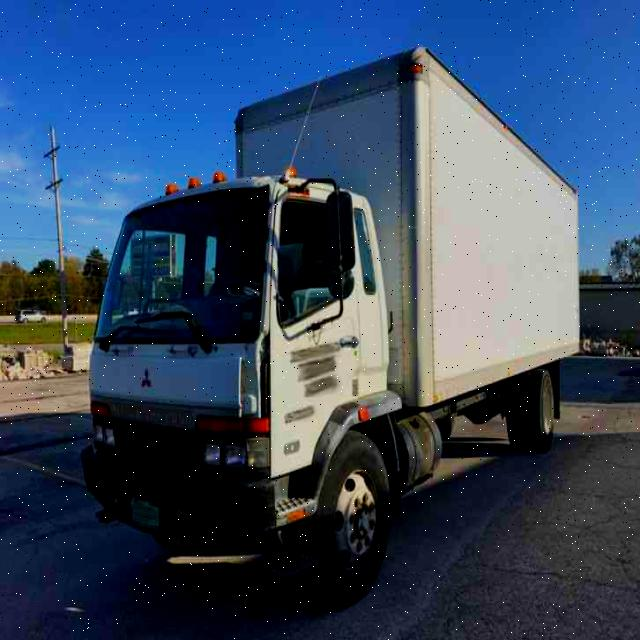truck: (82, 42, 580, 598)
